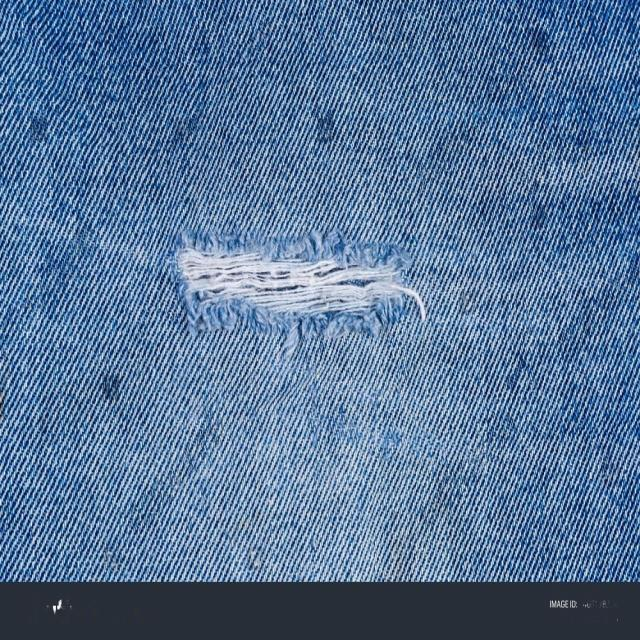Hole: (171, 230, 426, 357)
